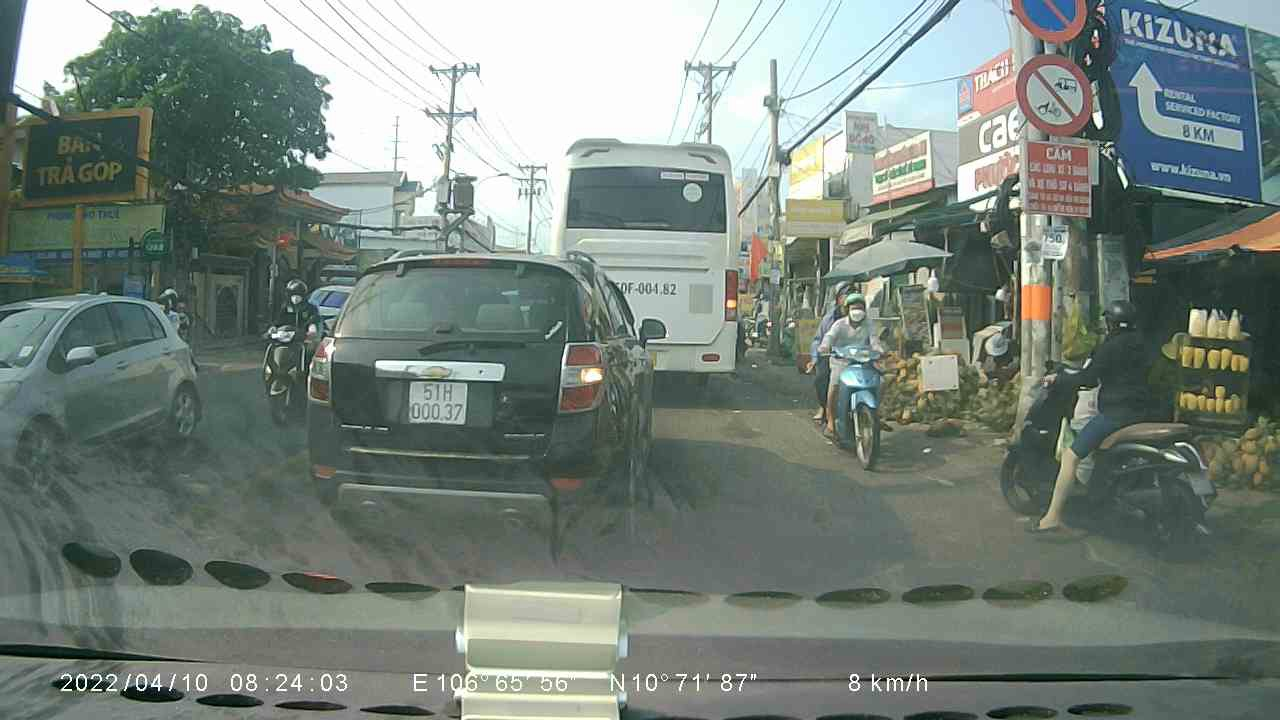Bien khac: (1011, 50, 1101, 134)
Cam do xe: (1005, 1, 1096, 46)
